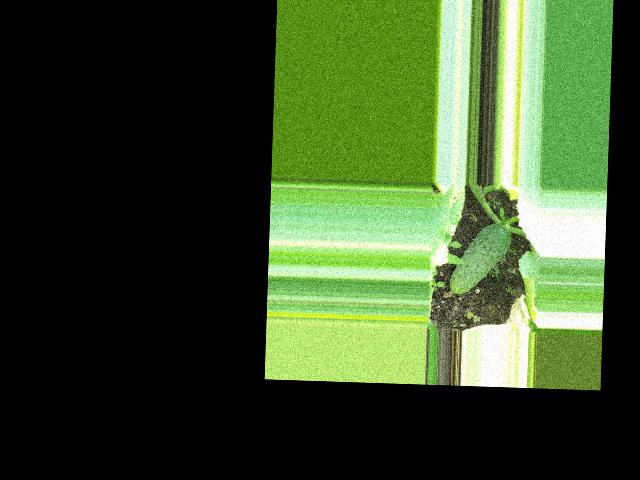cucumber: (448, 221, 512, 295)
